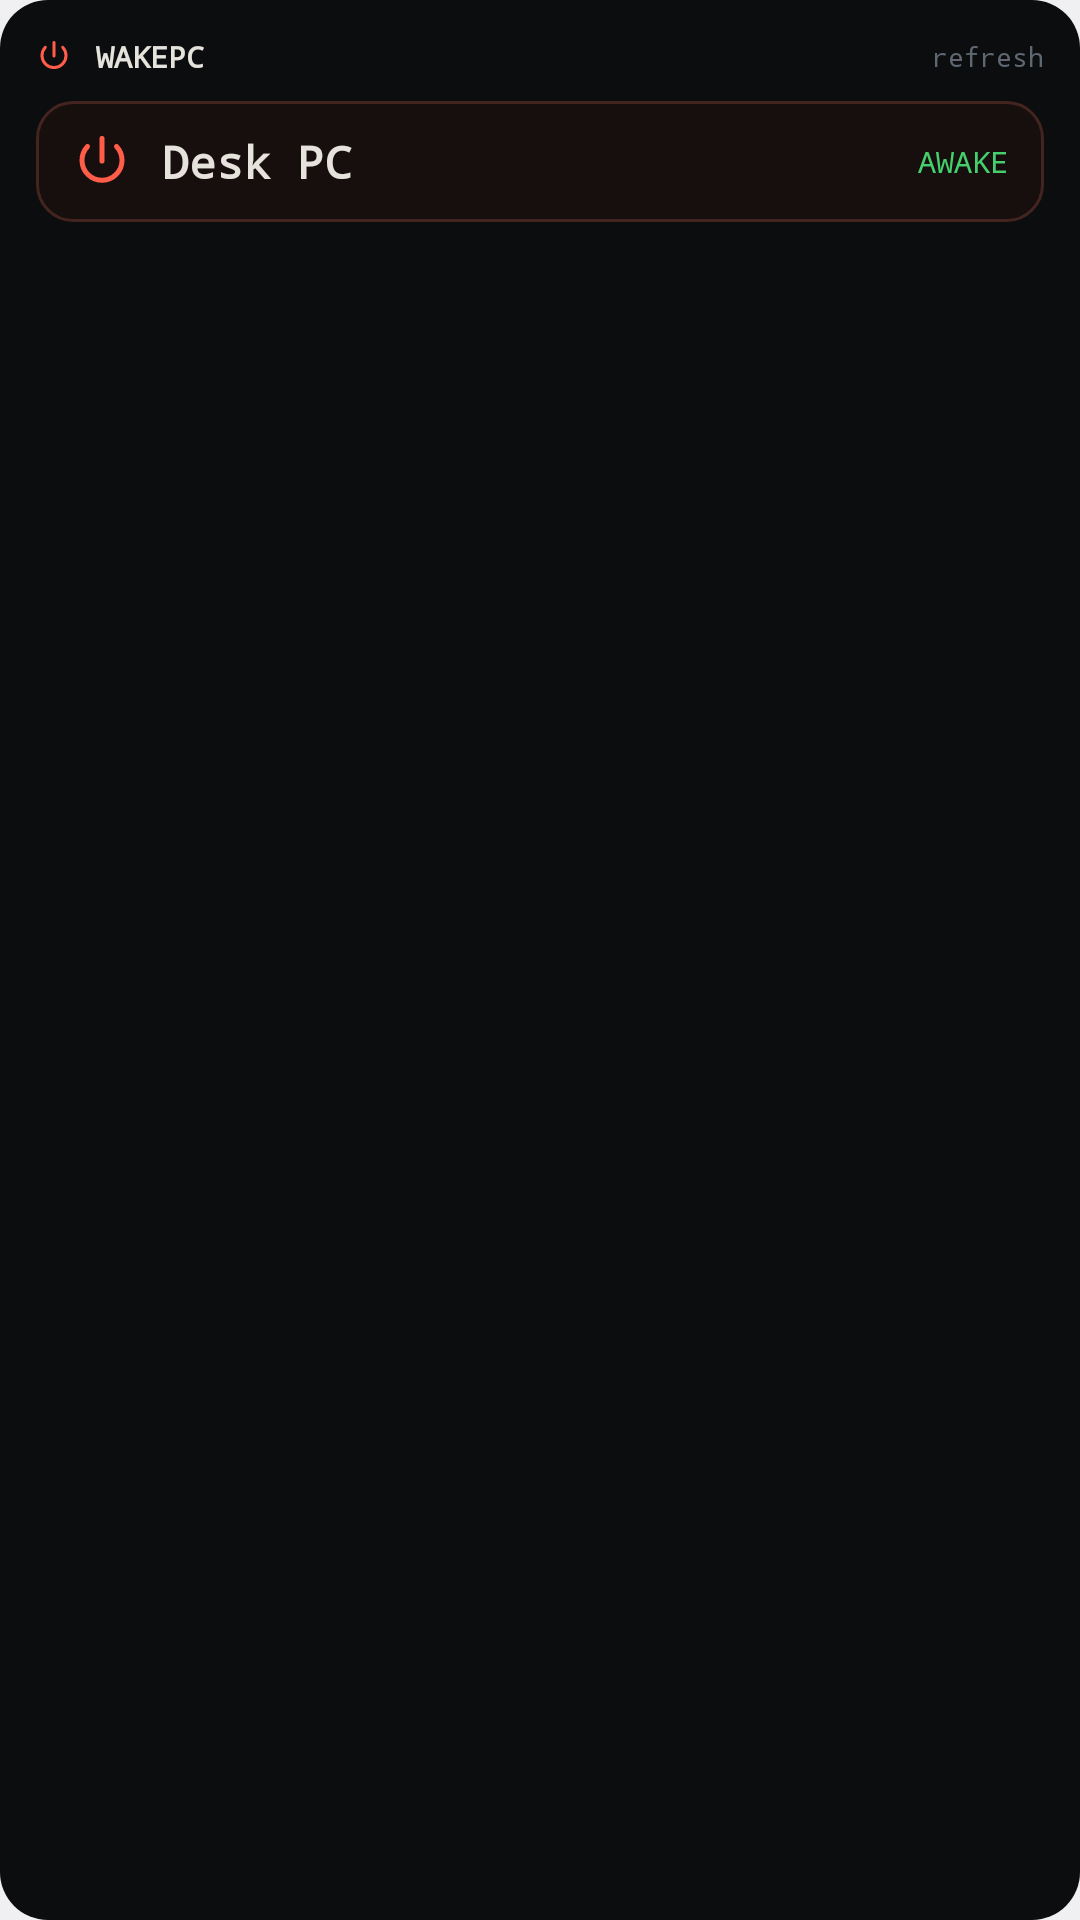

Named icons in this screenshot (1080*1920) and their centers, [x,y]:
power stroke: [54,55], [102,159]
